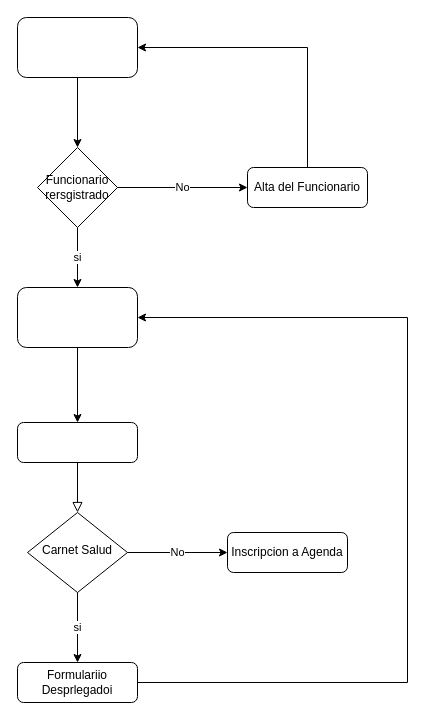
Image size: 433x720. Some labels were removed from this diagram. Each missing label, with the centre of its shape:
"Ficha Personal" goes at pixel 77 317.
"Formulario" goes at pixel 77 442.
"LogIn" goes at pixel 77 47.
